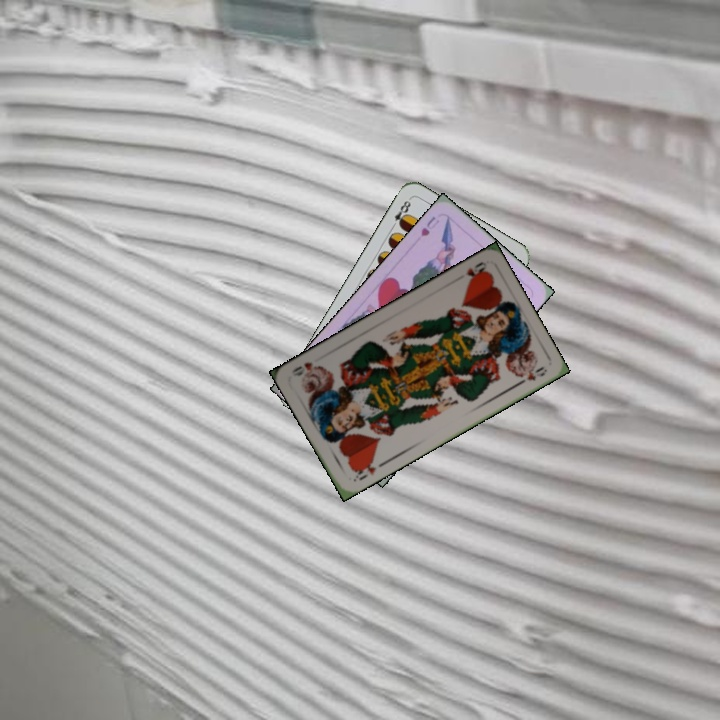E8: (387, 196, 413, 231)
HO: (349, 456, 379, 484), (462, 257, 490, 284)
HU: (417, 212, 442, 239)
